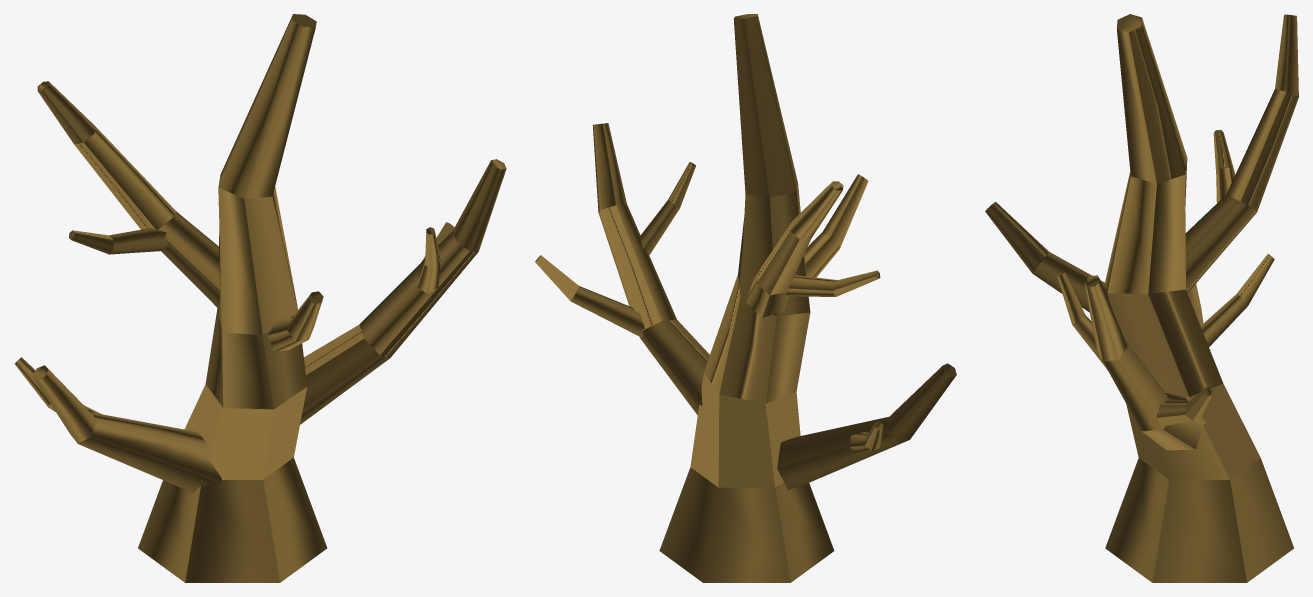
Rendered from arbol1.glb.
The picture shows the model from 3 angles, left to right: view 1: azimuth 30°, elevation 25°; view 2: azimuth 150°, elevation 25°; view 3: azimuth 270°, elevation 25°; orthographic projection. The views are drawn at different scales.
Parts seen in each view (by area): view 1: tree_02_Circle_001; view 2: tree_02_Circle_001; view 3: tree_02_Circle_001.
Part boxes in pixels (x1,y1,x2,y2): tree_02_Circle_001: (14,14,506,582); tree_02_Circle_001: (535,14,956,582); tree_02_Circle_001: (985,14,1298,582).
Bounding box in the file's own units: 3.53 × 4.23 × 2.2.
